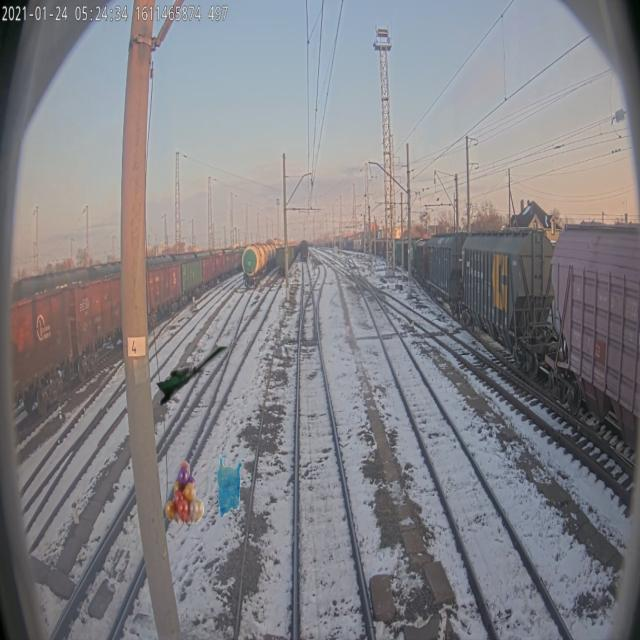balloon: (165, 460, 204, 524)
floating object: (155, 342, 232, 407)
plastic bag: (217, 454, 242, 518)
